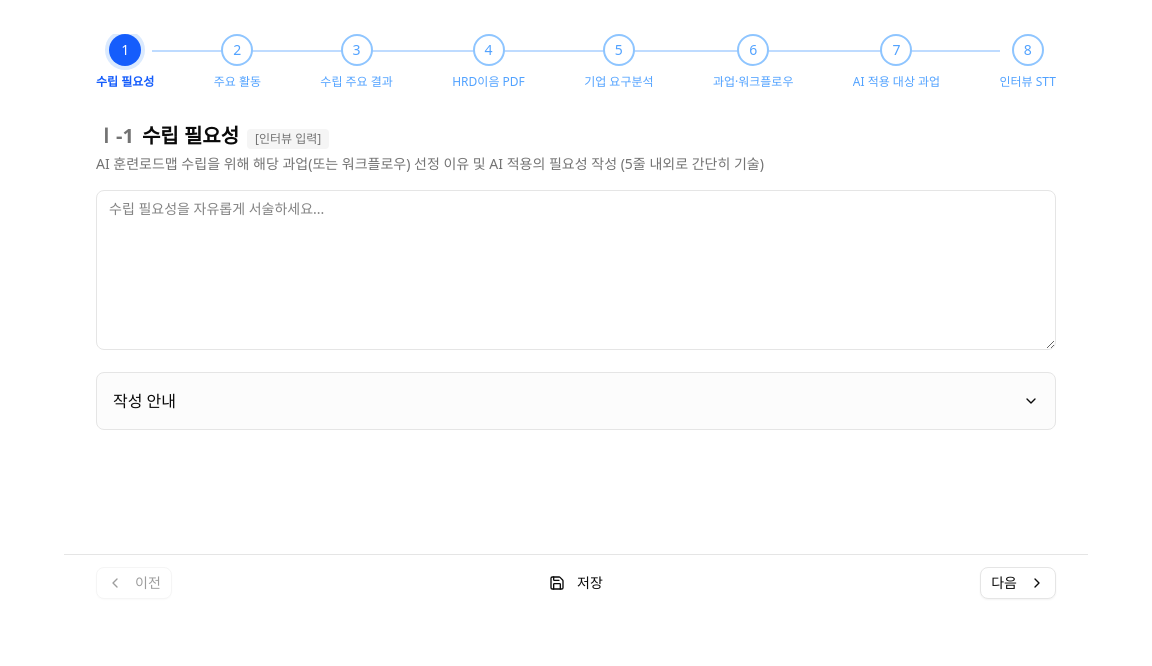
Test case: RoadmapInterviewClient › Ⅰ-2 작성 안내 영역에 양식 √ "별도 작성 불요" 안내가 노출된다 (공통-A)
Click the text "주요 활동" at (237, 82), box [214,74,261,90]
(page scrolled)
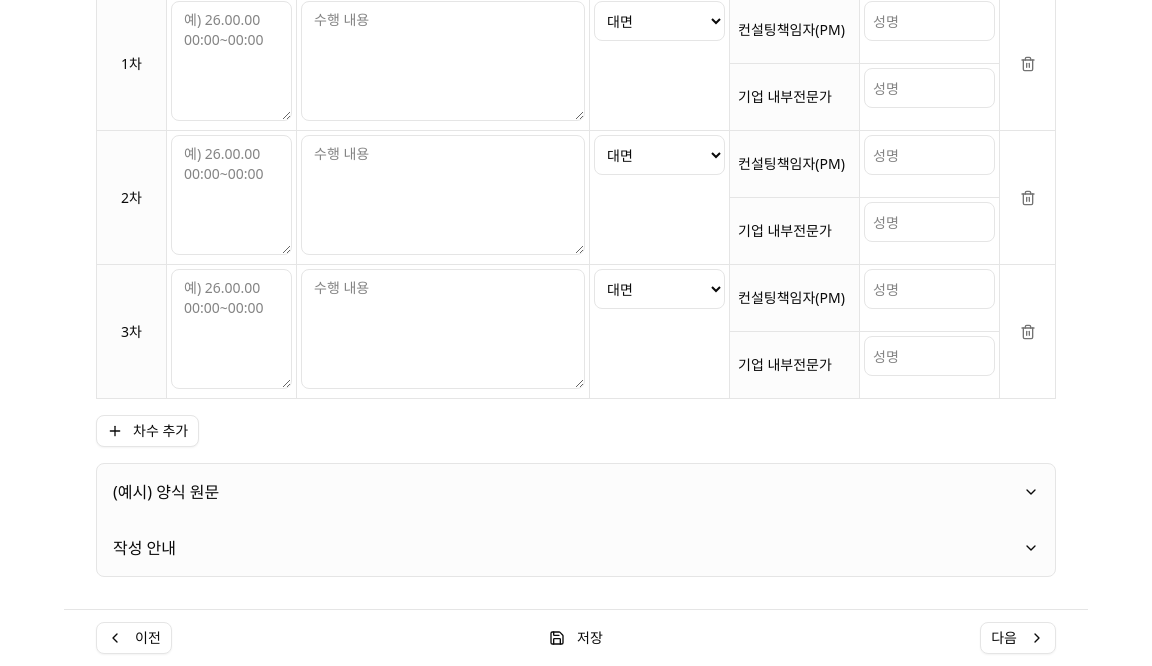
Click the button "작성 안내" at (145, 548), box [113,520,1039,576]
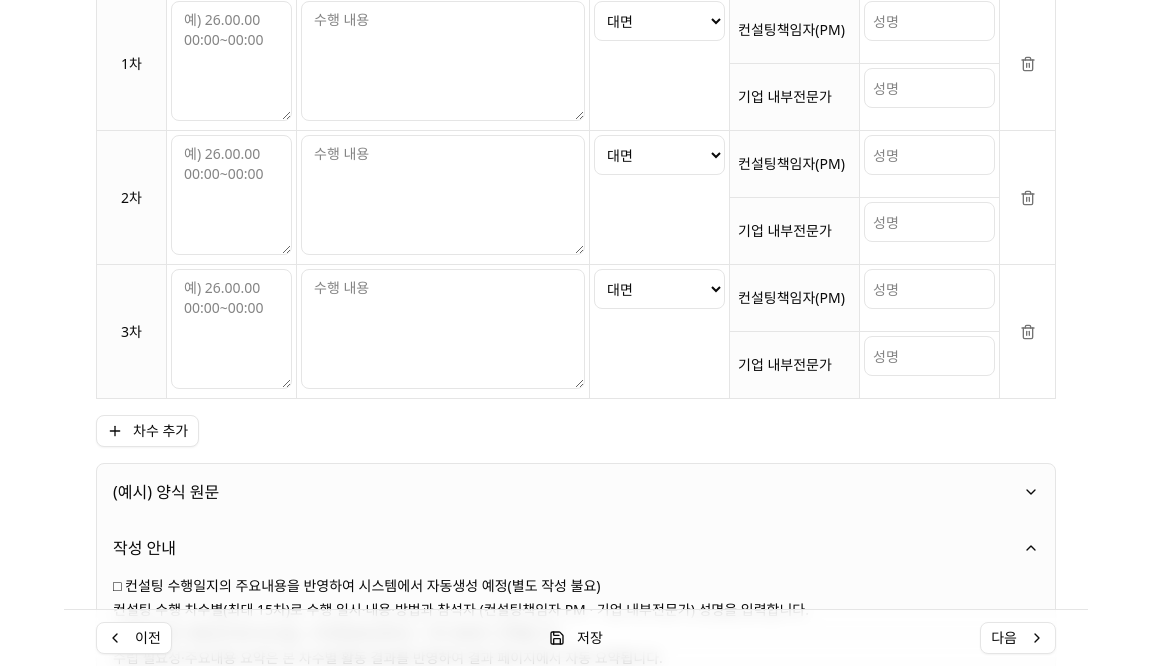
Check: the list item "□ 컨설팅 수행일지의 주요내용을 반영하여 시스템에서 자동생성 예정(별도 작성 불요)" is shown, box [113,576,600,595]
